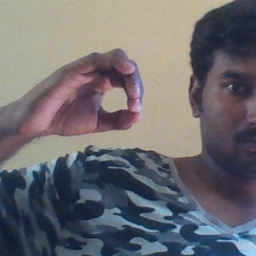O: (14, 45, 148, 140)
